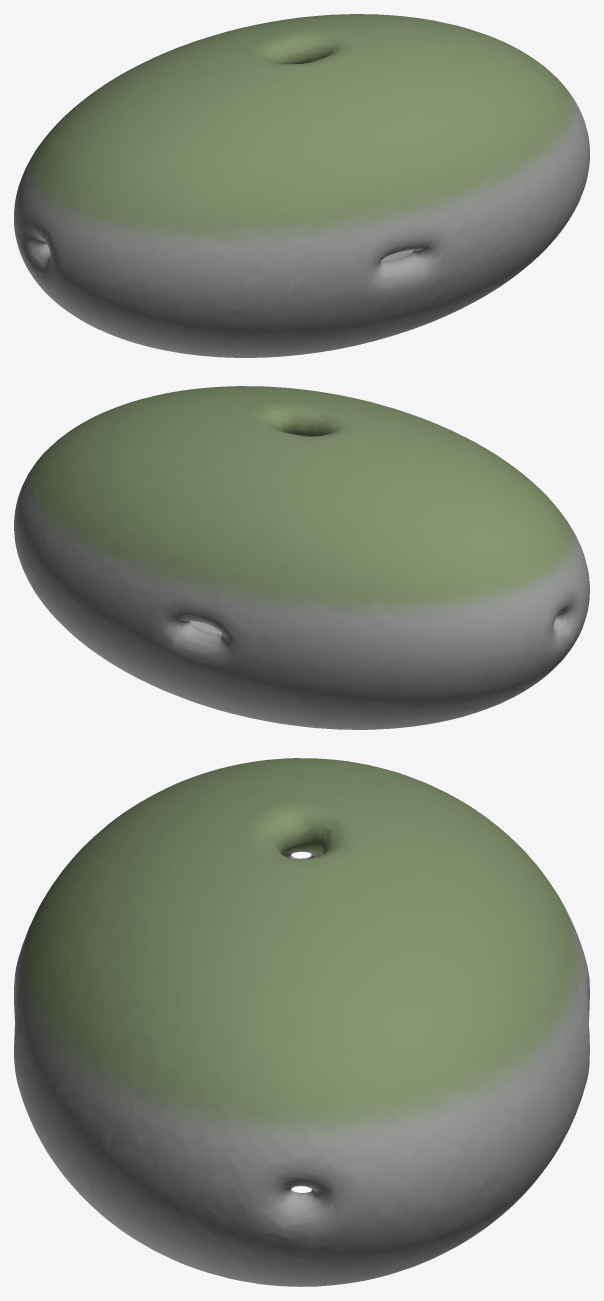
Rendered from sample-wreck.glb.
3 renders of one model, top to bottom at view 1: azimuth 30°, elevation 25°; view 2: azimuth 150°, elevation 25°; view 3: azimuth 270°, elevation 25°, orthographic. The views are drawn at different scales.
Visible parts, largest first — view 1: Part_Wreck; view 2: Part_Wreck; view 3: Part_Wreck.
Boxes of the visible parts, bbox=[...] form: Part_Wreck: bbox=[14, 14, 589, 357]; Part_Wreck: bbox=[14, 386, 589, 729]; Part_Wreck: bbox=[14, 758, 589, 1286].
Size of the model in its own units: 7 by 3.46 by 4.79.
